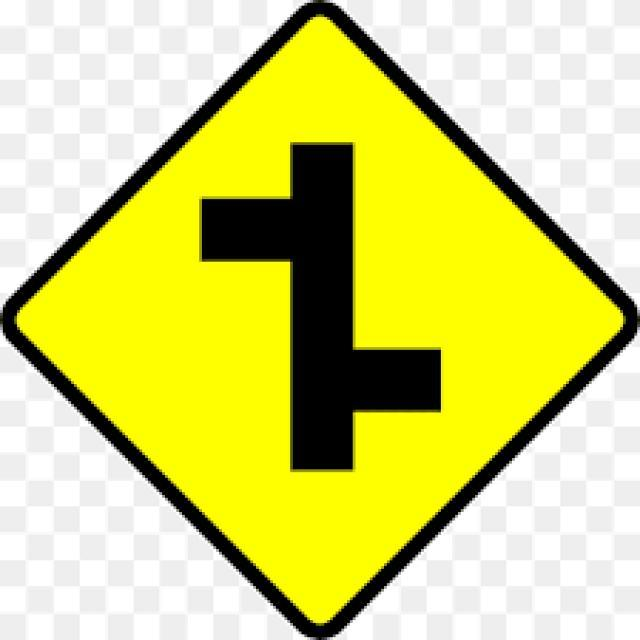staggered intersection: (21, 20, 618, 625)
